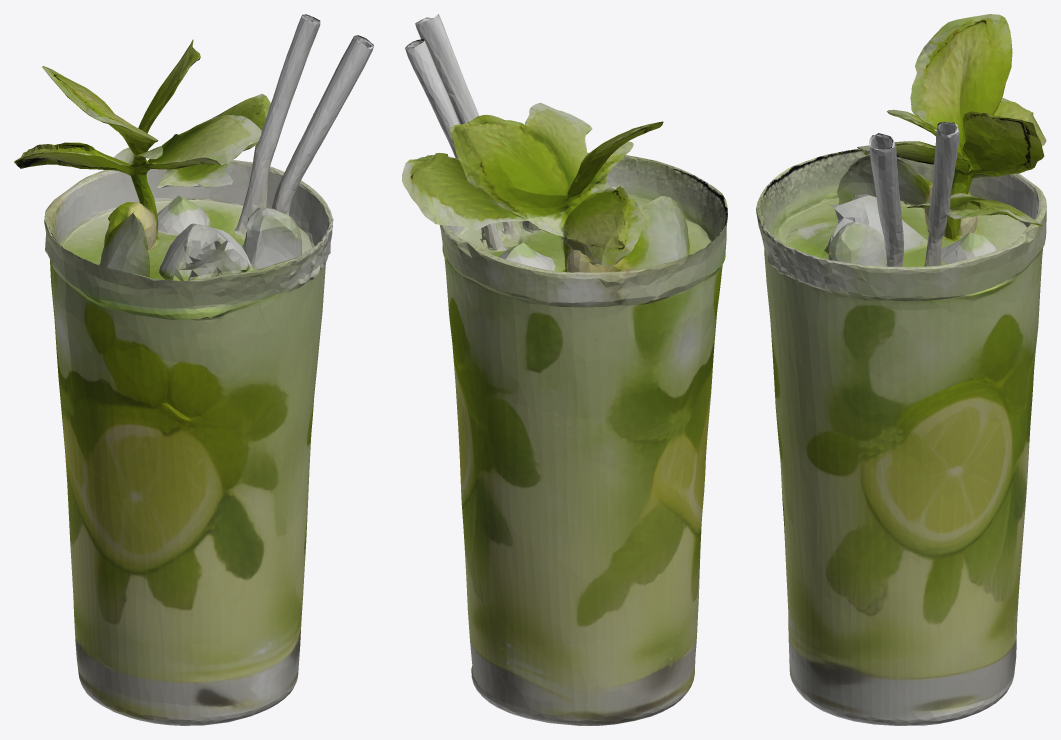
The model's file is Virgin Mint Mojito.glb.
3 renders of one model, left to right at view 1: azimuth 30°, elevation 25°; view 2: azimuth 150°, elevation 25°; view 3: azimuth 270°, elevation 25°, orthographic. The views are drawn at different scales.
Parts seen in each view (by area): view 1: world; view 2: world; view 3: world.
Boxes of the visible parts, x1,y1,x2,y2 form: world: [14, 14, 373, 725]; world: [402, 14, 727, 725]; world: [756, 14, 1046, 725].
Size of the model in its own units: 0.5021 by 0.9985 by 0.4154.
1 material, 1 textured.
